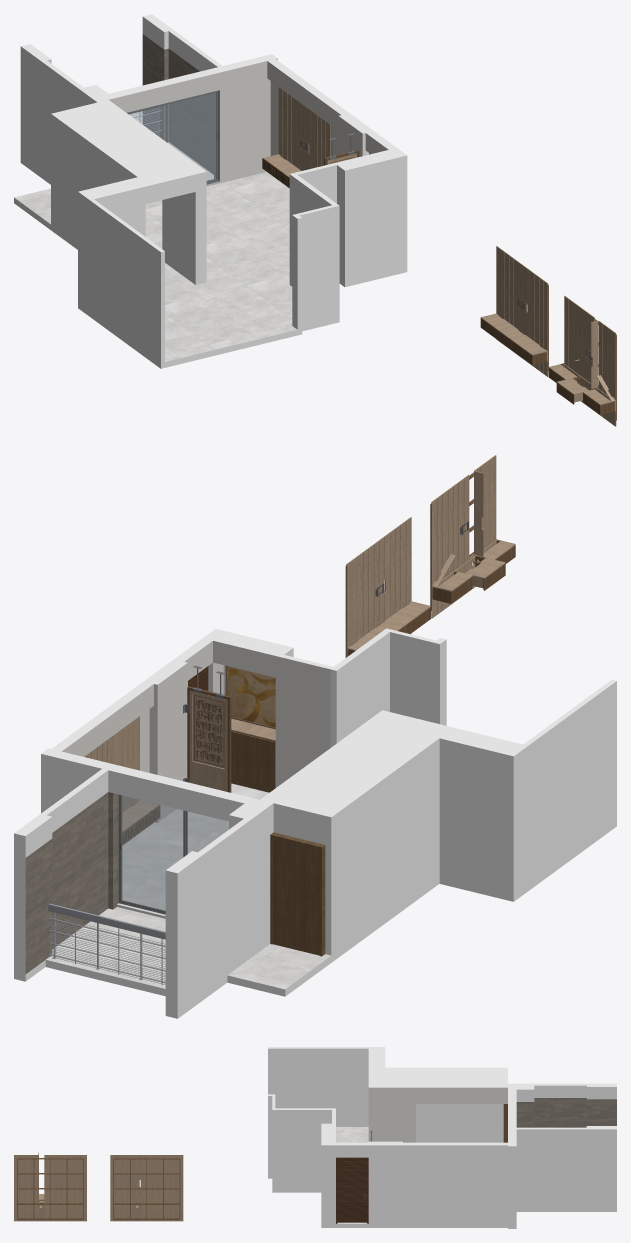
The model's file is option-3.glb.
3 views of the same model, one above another, from view 1: azimuth 30°, elevation 25°; view 2: azimuth 150°, elevation 25°; view 3: azimuth 270°, elevation 25° (orthographic). The views are drawn at different scales.
Visible parts, largest first — view 1: Geom3D_ergqergerg, Geom3D (×5), Geom3D_Glass (×2), Geom3D_gahergerg; view 2: Geom3D_ergqergerg, Geom3D (×8), Geom3D_Glass (×4), Geom3D_ (×3), Geom3D_gahergerg, Geom3D_Bottom Rail; view 3: Geom3D_ergqergerg, Geom3D (×28), Geom3D_ (×2), Geom3D_gahergerg.
Part boxes in pixels (x1=…): Geom3D_ergqergerg: x1=20, y1=14, x2=407, y2=362; Geom3D (×5): x1=14, y1=17, x2=598, y2=389; Geom3D_Glass (×2): x1=129, y1=92, x2=216, y2=180; Geom3D_gahergerg: x1=14, y1=157, x2=407, y2=368; Geom3D_ergqergerg: x1=14, y1=628, x2=616, y2=1011; Geom3D (×8): x1=25, y1=471, x2=483, y2=989; Geom3D_Glass (×4): x1=122, y1=732, x2=273, y2=910; Geom3D_ (×3): x1=193, y1=694, x2=325, y2=956; Geom3D_gahergerg: x1=14, y1=819, x2=616, y2=1018; Geom3D_Bottom Rail: x1=192, y1=761, x2=224, y2=791; Geom3D_ergqergerg: x1=268, y1=1047, x2=616, y2=1224; Geom3D (×28): x1=14, y1=1085, x2=616, y2=1223; Geom3D_ (×2): x1=17, y1=1158, x2=180, y2=1219; Geom3D_gahergerg: x1=268, y1=1174, x2=616, y2=1228.
Size of the model in its own units: 7.83 by 3.05 by 20.14.
30 materials, 10 textured.
